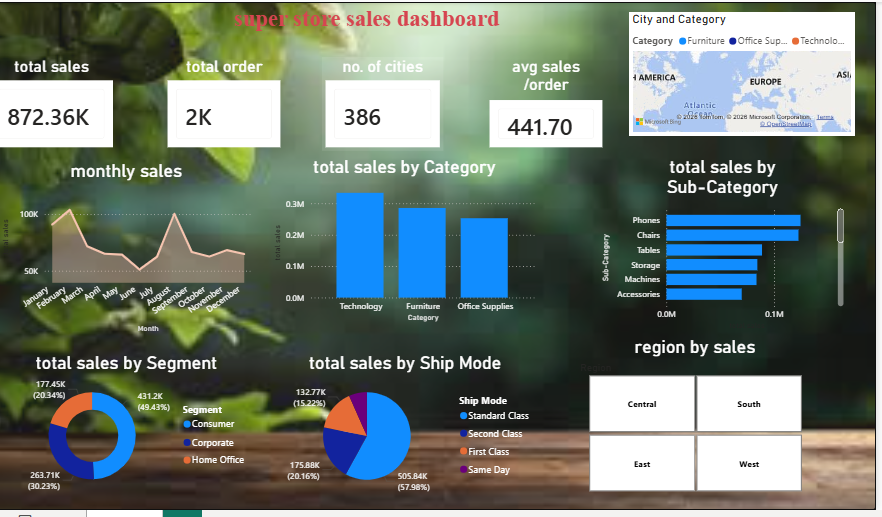

Layout of this report page (visuals, bound fields, positions):
{"tool":"powerbi","page":{"name":"Page 1","canvas":[1280,720],"ordinal":0},"visuals":[{"type":"cardVisual","title":"total sales","fields":{"Data":["SuperStore_Sales_Dataset.total sales"]},"box":[19.5,77.8,185.6,133.2],"z":0},{"type":"cardVisual","title":"total order","fields":{"Data":["SuperStore_Sales_Dataset.total orders"]},"box":[272.5,77.8,170.7,133.2],"z":1000},{"type":"cardVisual","title":"no. of cities","fields":{"Data":["SuperStore_Sales_Dataset.number of cities"]},"box":[495.5,77.8,172.2,133.2],"z":2000},{"type":"cardVisual","title":"avg sales /order","fields":{"Data":["SuperStore_Sales_Dataset.average sales / order"]},"box":[729.1,77.8,170.7,133.2],"z":3000},{"type":"lineChart","title":"monthly sales","fields":{"Y":["SuperStore_Sales_Dataset.total sales"],"Category":["SuperStore_Sales_Dataset.Order Date.Variation.Date Hierarchy.Month"]},"box":[37.4,224.6,363.8,250],"z":4000},{"type":"columnChart","fields":{"Y":["SuperStore_Sales_Dataset.total sales"],"Category":["SuperStore_Sales_Dataset.Category"]},"box":[422.1,217.6,380.9,239.7],"z":5000},{"type":"barChart","fields":{"Category":["SuperStore_Sales_Dataset.Sub-Category"],"Y":["SuperStore_Sales_Dataset.total sales"]},"box":[887.2,218.3,352.9,250.9],"z":6000},{"type":"filledMap","fields":{"Category":["SuperStore_Sales_Dataset.City"],"Series":["SuperStore_Sales_Dataset.Category"]},"box":[931.2,13.5,320.4,175.2],"z":7000},{"type":"donutChart","fields":{"Y":["SuperStore_Sales_Dataset.total sales"],"Category":["SuperStore_Sales_Dataset.Segment"]},"box":[37.4,495.5,363.8,206.6],"z":8000},{"type":"slicer","title":"region by sales","fields":{"Values":["SuperStore_Sales_Dataset.Region"]},"box":[849,473.4,351.5,226.8],"z":9000},{"type":"pieChart","fields":{"Category":["SuperStore_Sales_Dataset.Ship Mode"],"Y":["SuperStore_Sales_Dataset.total sales"]},"box":[423.8,496.1,379.8,206.9],"z":10000},{"type":"textbox","box":[220.1,0,679.7,53.9],"z":11000}]}

Visuals, with their boxes on the page's 1280x720 design canvas (x1, y1, x2, y2). These are canvas units, not pixel positions in the 882x517 screenshot, which may show the page scaled, cropped or inside an application window:
"total sales" cardVisual: [left=20, top=78, right=205, bottom=211]
"total order" cardVisual: [left=272, top=78, right=443, bottom=211]
"no. of cities" cardVisual: [left=496, top=78, right=668, bottom=211]
"avg sales /order" cardVisual: [left=729, top=78, right=900, bottom=211]
"monthly sales" lineChart: [left=37, top=225, right=401, bottom=475]
columnChart - SuperStore_Sales_Dataset.total sales x SuperStore_Sales_Dataset.Category: [left=422, top=218, right=803, bottom=457]
barChart - SuperStore_Sales_Dataset.Sub-Category x SuperStore_Sales_Dataset.total sales: [left=887, top=218, right=1240, bottom=469]
filledMap - SuperStore_Sales_Dataset.City x SuperStore_Sales_Dataset.Category: [left=931, top=14, right=1252, bottom=189]
donutChart - SuperStore_Sales_Dataset.total sales x SuperStore_Sales_Dataset.Segment: [left=37, top=496, right=401, bottom=702]
"region by sales" slicer: [left=849, top=473, right=1200, bottom=700]
pieChart - SuperStore_Sales_Dataset.Ship Mode x SuperStore_Sales_Dataset.total sales: [left=424, top=496, right=804, bottom=703]
textbox: [left=220, top=0, right=900, bottom=54]
